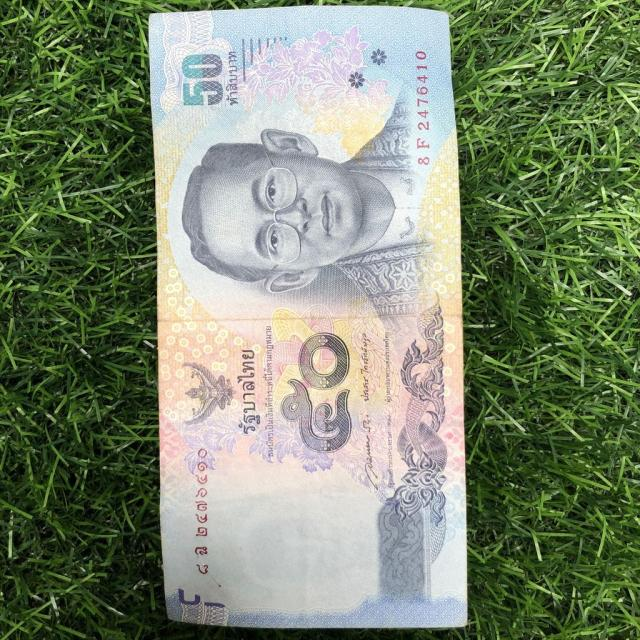THAI50: (151, 8, 466, 626)
